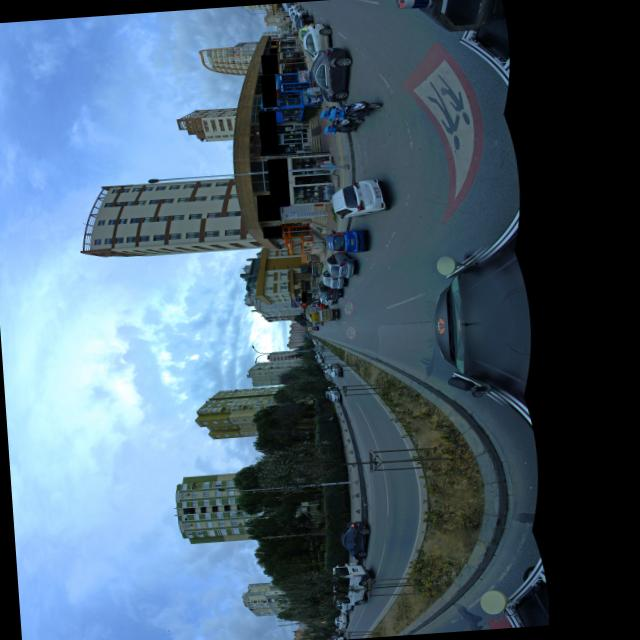SignStore: (267, 157, 290, 206), (260, 110, 278, 153), (256, 194, 280, 219), (262, 73, 277, 106), (262, 53, 278, 74), (263, 224, 282, 236), (301, 291, 305, 302), (270, 47, 277, 52), (271, 40, 276, 44)
